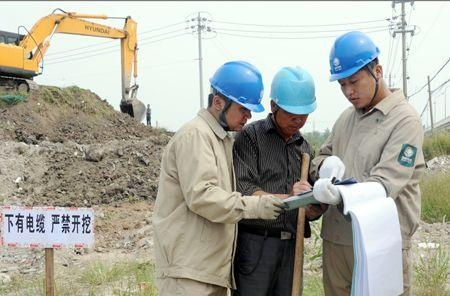blue: (203, 57, 265, 133), (327, 31, 385, 112), (267, 64, 317, 135)
